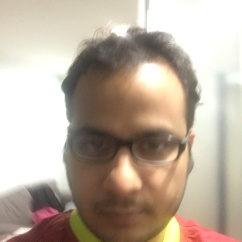glasses: (69, 130, 189, 164)
